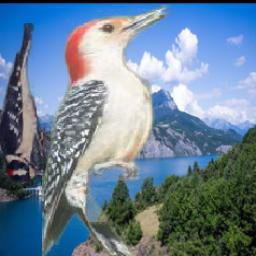Woodpecker: (41, 5, 175, 256), (0, 24, 49, 187)
